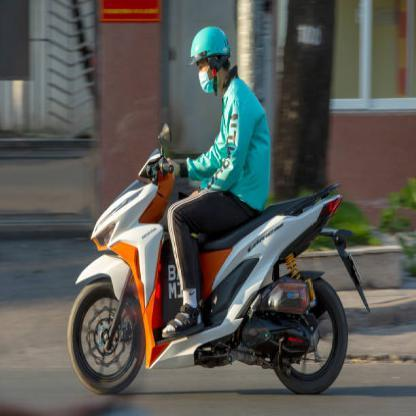Motorcycle: (64, 122, 368, 410)
